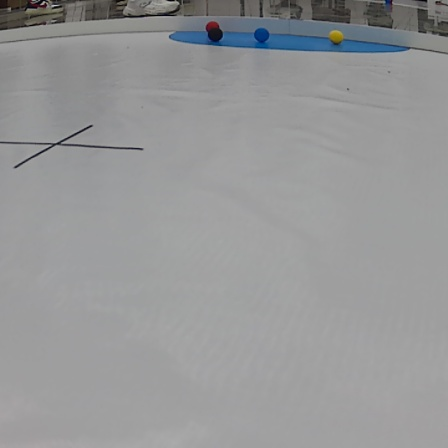black: (208, 27, 222, 42)
blue: (254, 27, 271, 41)
blue_base: (168, 29, 408, 55)
red: (204, 17, 220, 30)
yellow: (327, 28, 346, 46)
